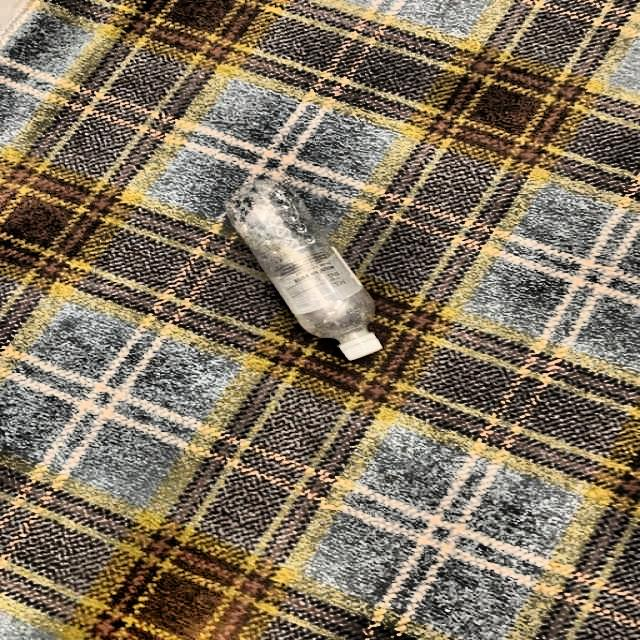plastic bottle: (227, 177, 382, 360)
